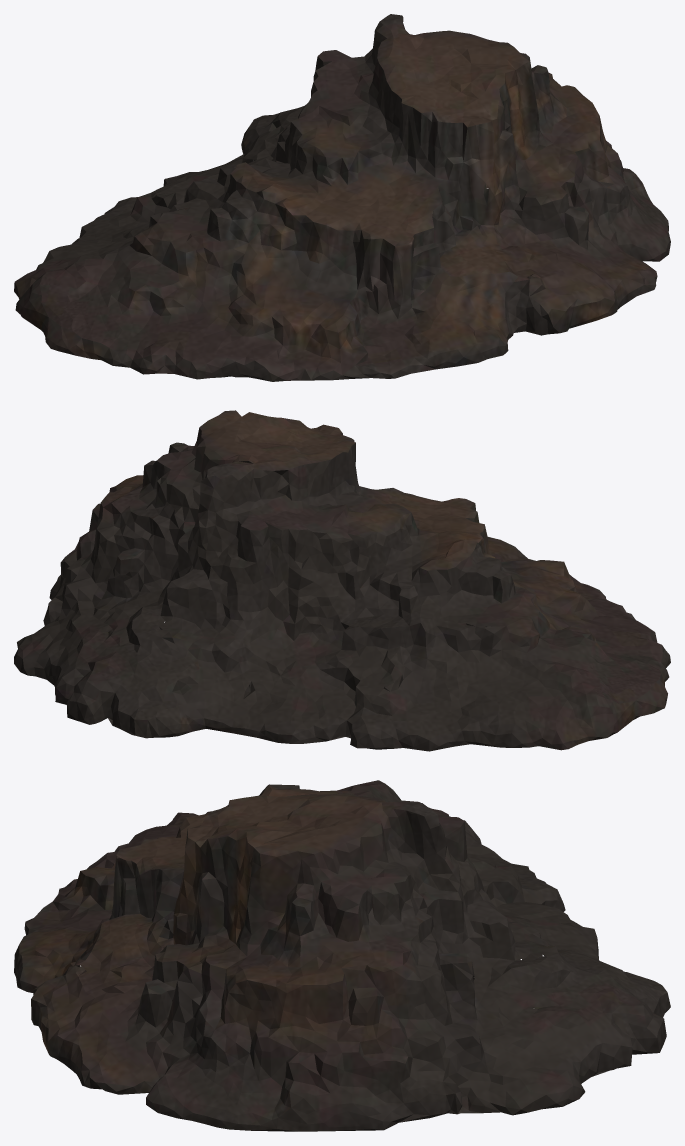
File: volcanic_basalt_1117.glb
3 views of the same model, one above another, from view 1: azimuth 30°, elevation 25°; view 2: azimuth 150°, elevation 25°; view 3: azimuth 270°, elevation 25° (orthographic). The views are drawn at different scales.
Visible parts, largest first — view 1: world; view 2: world; view 3: world.
Part boxes in pixels (<box>): world: <box>14,14,670,381</box>; world: <box>14,410,670,751</box>; world: <box>14,780,670,1131</box>.
Size of the model in its own units: 3.24 by 1 by 2.74.
Materials: 1 (1 with a texture image).
